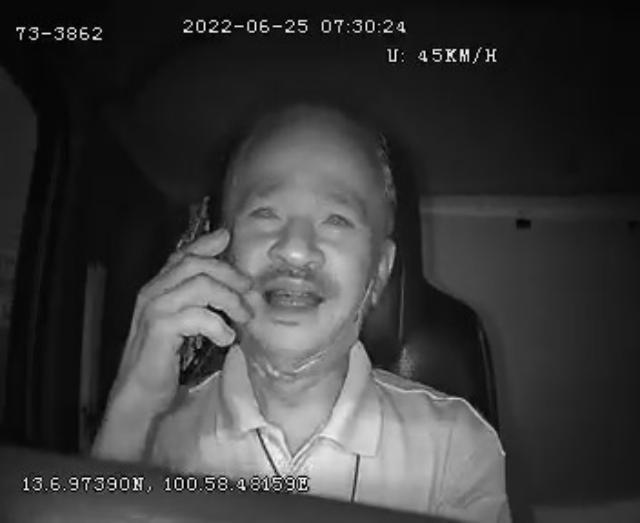PhoneUse: (172, 188, 224, 378)
SafeDriving: (314, 193, 361, 242), (242, 189, 288, 232)
